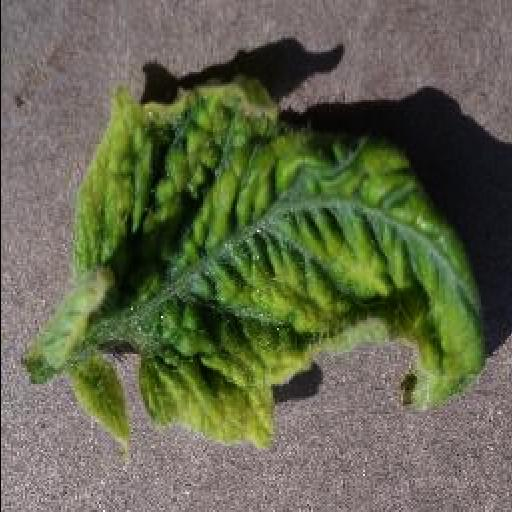disease_tomato: (64, 80, 482, 454)
